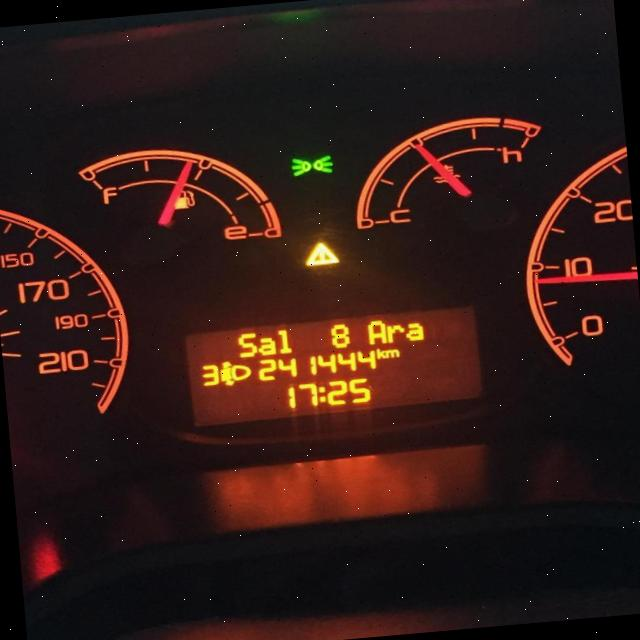odometer: (173, 298, 490, 431)
